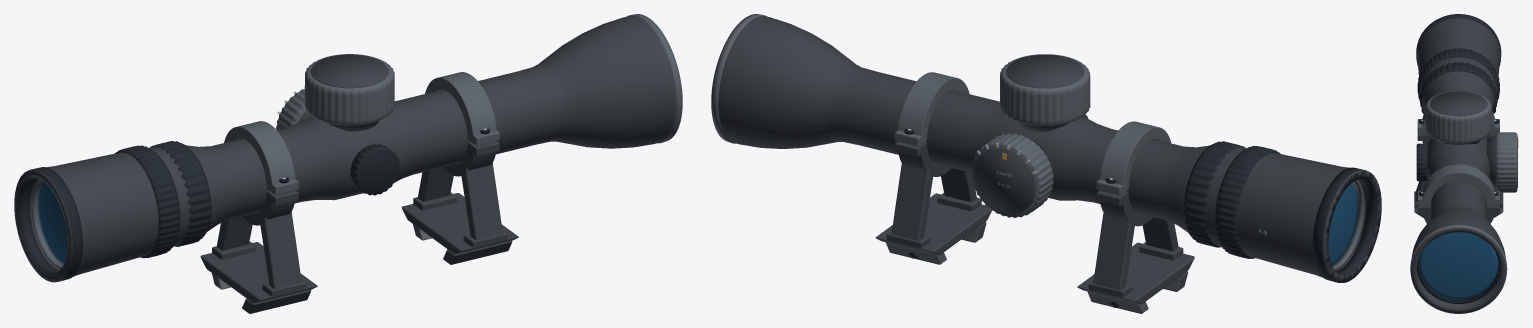
File: R8_8x_Scope_Legacy_K1_Rail_Top.glb
3 renders of one model, left to right at view 1: azimuth 30°, elevation 25°; view 2: azimuth 150°, elevation 25°; view 3: azimuth 270°, elevation 25°, orthographic. The views are drawn at different scales.
Visible parts, largest first — view 1: 01 SHELL | curved objective and long rear neck, 11 TOP CAP RIM, 05 REAR LIP | dark scallop, 09 REAR COLLAR B | fine grooves, 25.1 LOCAL CROWN | independent seat, 25.0 LOCAL CROWN | independent seat, 08 REAR COLLAR A | wide shallow grooves, 23.0.-1 SUPPORT ARM, 23.1.-1 SUPPORT ARM, 17.1 RING UPPER, 17.0 RING UPPER, 12 TOP CAP FACE (+11 smaller); view 2: 01 SHELL | curved objective and long rear neck, 11 TOP CAP RIM, 05 REAR LIP | dark scallop, 15 RIGHT CAP FACE, 09 REAR COLLAR B | fine grooves, 25.1 LOCAL CROWN | independent seat, 25.0 LOCAL CROWN | independent seat, 08 REAR COLLAR A | wide shallow grooves, 23.0.1 SUPPORT ARM, 23.1.1 SUPPORT ARM, 14 RIGHT CAP RIM, 17.1 RING UPPER (+11 smaller); view 3: 01 SHELL | curved objective and long rear neck, 04 FRONT PANE | deep blue coat, 11 TOP CAP RIM, 17.0 RING UPPER, 14 RIGHT CAP RIM, 12 TOP CAP FACE, 09 REAR COLLAR B | fine grooves, 08 REAR COLLAR A | wide shallow grooves, 02 FRONT LIP | fine rim, 03 FRONT INNER | matte rim, 05 REAR LIP | dark scallop, 16 LEFT SMALL CAP (+7 smaller).
Part boxes in pixels (x1,y1,x2,y2): 01 SHELL | curved objective and long rear neck: (14,16,675,282); 11 TOP CAP RIM: (305,54,394,125); 05 REAR LIP | dark scallop: (14,167,83,281); 09 REAR COLLAR B | fine grooves: (115,145,180,258); 25.1 LOCAL CROWN | independent seat: (200,242,317,303); 25.0 LOCAL CROWN | independent seat: (401,193,518,254); 08 REAR COLLAR A | wide shallow grooves: (150,141,211,246); 23.0.-1 SUPPORT ARM: (461,163,502,240); 23.1.-1 SUPPORT ARM: (260,212,301,289); 17.1 RING UPPER: (224,121,295,193); 17.0 RING UPPER: (425,72,496,143); 12 TOP CAP FACE: (311,54,388,88); 01 SHELL | curved objective and long rear neck: (718,16,1381,282); 11 TOP CAP RIM: (1000,54,1090,125); 05 REAR LIP | dark scallop: (1312,167,1380,282); 15 RIGHT CAP FACE: (974,148,1035,213); 09 REAR COLLAR B | fine grooves: (1215,146,1280,258); 25.1 LOCAL CROWN | independent seat: (1077,242,1194,304); 25.0 LOCAL CROWN | independent seat: (875,193,991,255); 08 REAR COLLAR A | wide shallow grooves: (1184,141,1245,247); 23.0.1 SUPPORT ARM: (891,164,933,240); 23.1.1 SUPPORT ARM: (1093,213,1134,290); 14 RIGHT CAP RIM: (971,133,1053,217); 17.1 RING UPPER: (1099,121,1171,193); 01 SHELL | curved objective and long rear neck: (1411,14,1505,312); 04 FRONT PANE | deep blue coat: (1419,232,1498,299); 11 TOP CAP RIM: (1425,91,1491,143); 17.0 RING UPPER: (1422,164,1495,205); 14 RIGHT CAP RIM: (1495,132,1517,192); 12 TOP CAP FACE: (1430,91,1487,116); 09 REAR COLLAR B | fine grooves: (1417,48,1499,103); 08 REAR COLLAR A | wide shallow grooves: (1420,62,1496,113); 02 FRONT LIP | fine rim: (1410,224,1507,313); 03 FRONT INNER | matte rim: (1417,252,1500,303); 05 REAR LIP | dark scallop: (1416,14,1501,66); 16 LEFT SMALL CAP: (1416,143,1427,181).
Size of the model in its own units: 0.3872 by 0.122 by 0.0813.
